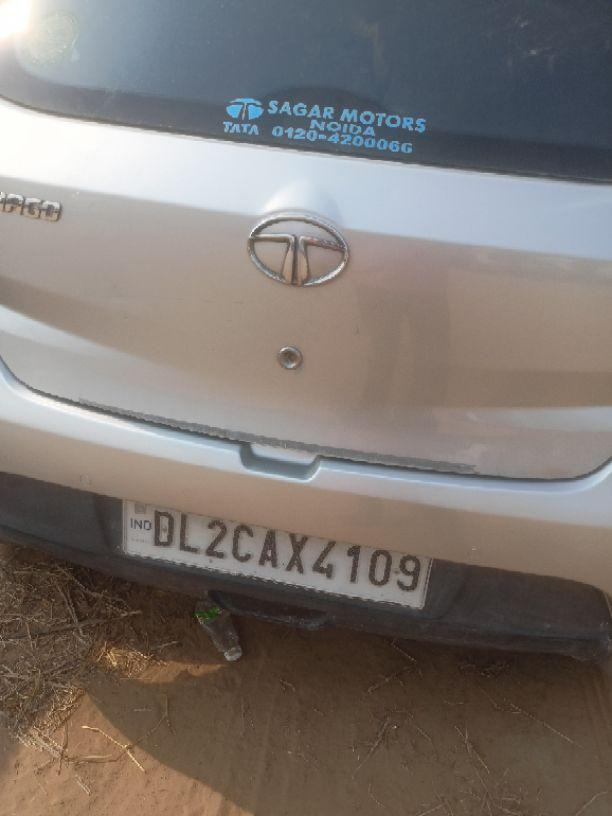license_plate: (118, 497, 459, 619)
